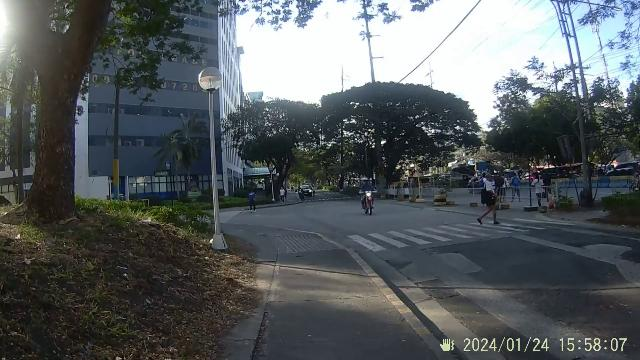lamp_post: (198, 65, 230, 246)
tree: (12, 0, 92, 222)
